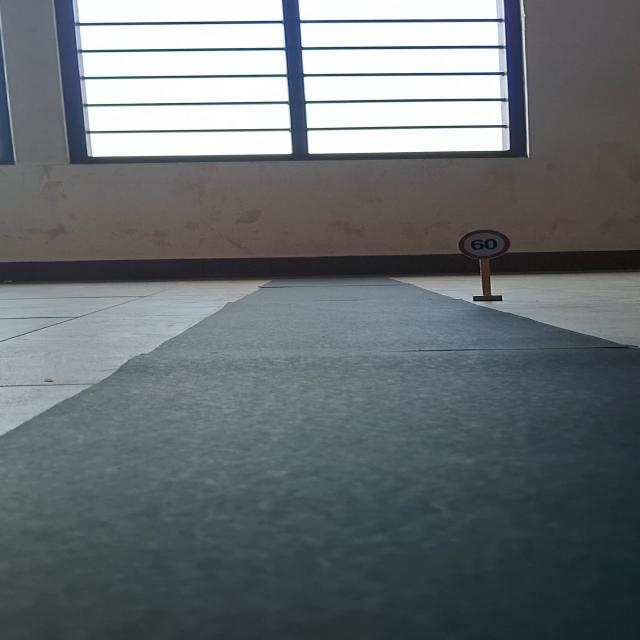Speed60: (457, 229, 512, 260)
